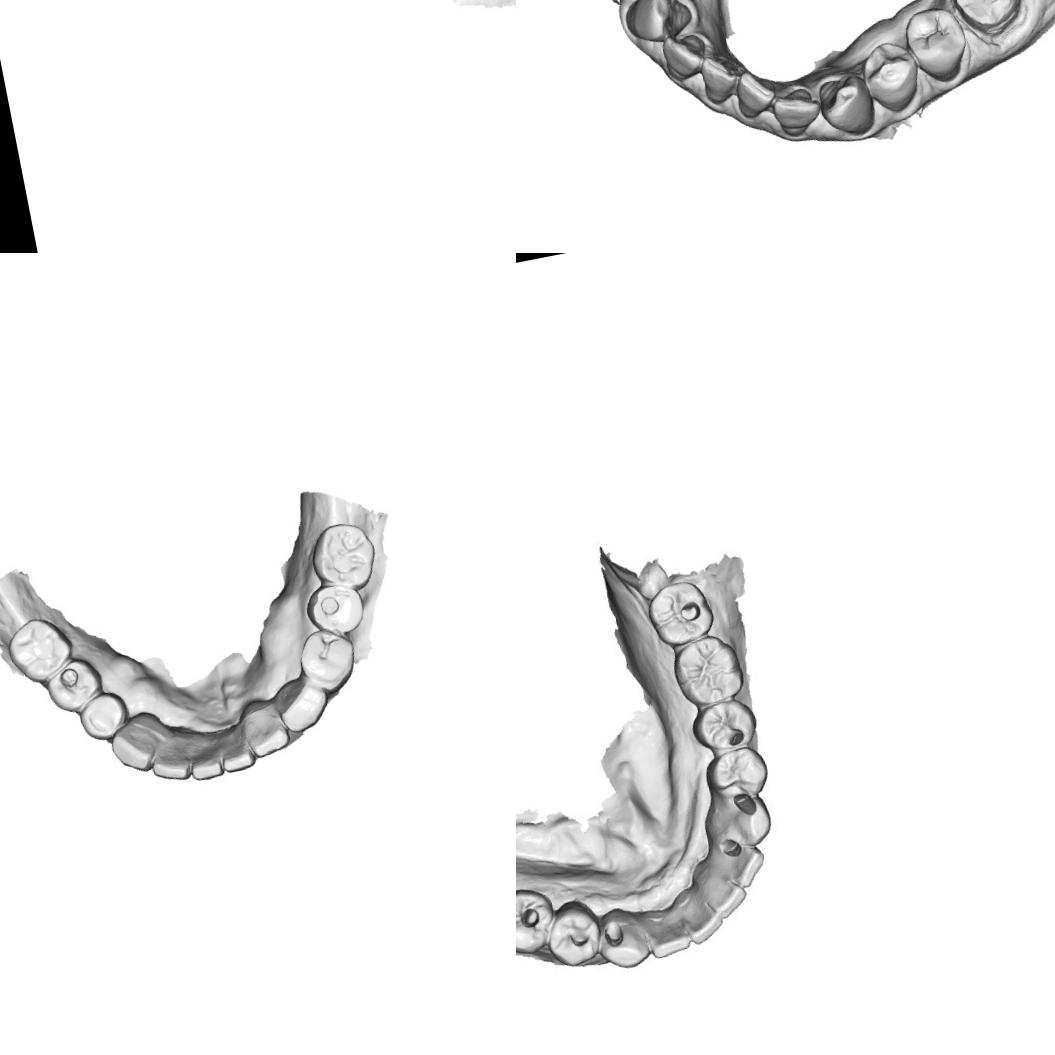canine: (814, 67, 881, 143), (695, 788, 772, 852), (105, 708, 170, 778), (592, 903, 652, 978), (274, 672, 333, 734), (618, 0, 695, 47)
crown: (945, 0, 1030, 39)
incisor: (638, 893, 698, 962), (236, 694, 292, 759), (766, 84, 828, 140), (656, 28, 711, 85), (714, 835, 768, 892), (145, 730, 194, 786), (728, 65, 776, 122), (678, 887, 724, 940), (696, 52, 740, 104), (214, 724, 257, 774), (184, 729, 224, 782), (698, 868, 741, 916)
molar: (668, 630, 750, 708), (305, 517, 382, 597), (2, 611, 78, 688), (642, 574, 716, 649)
premolar: (900, 0, 974, 90), (854, 35, 927, 116), (293, 623, 361, 698), (688, 696, 763, 760), (40, 653, 108, 717), (699, 744, 770, 805), (300, 577, 368, 640), (544, 904, 604, 970), (516, 884, 559, 960), (74, 688, 132, 744)
